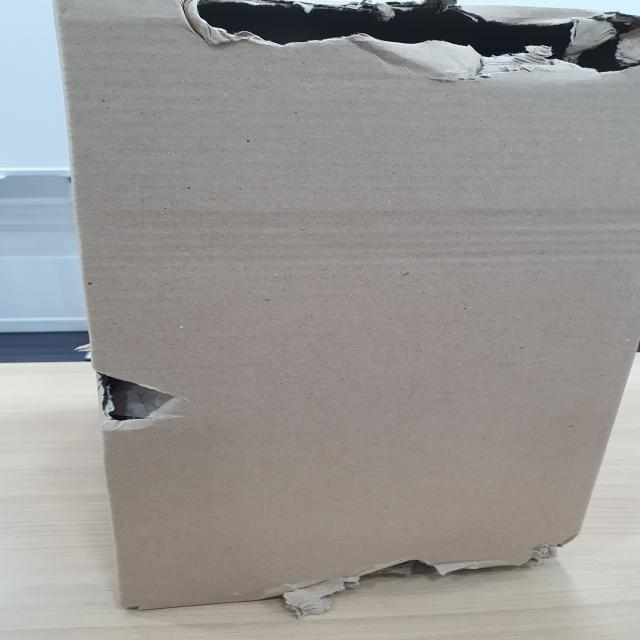hole: (185, 0, 632, 71), (326, 556, 521, 585), (94, 365, 192, 421)
